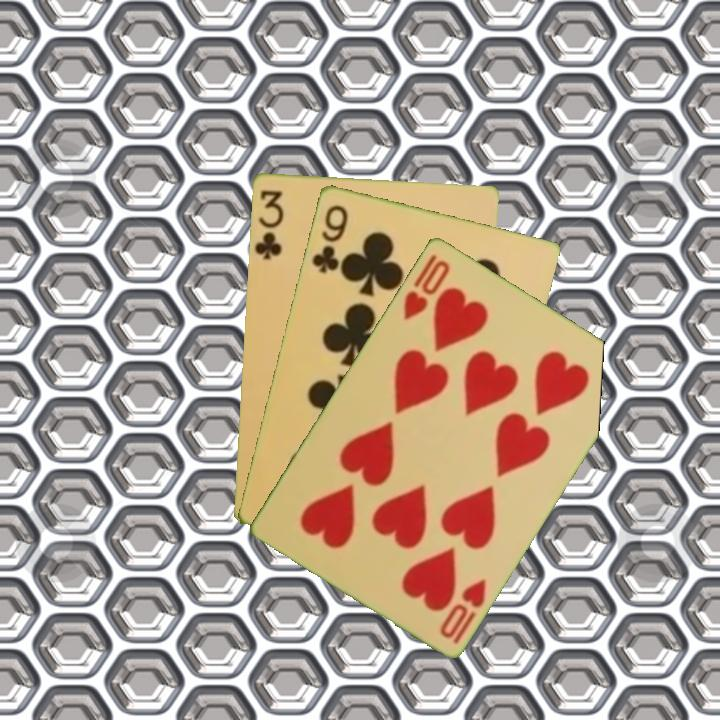10h: (436, 574, 489, 647), (399, 255, 453, 323)
3c: (251, 186, 286, 262)
9c: (308, 201, 351, 276)
